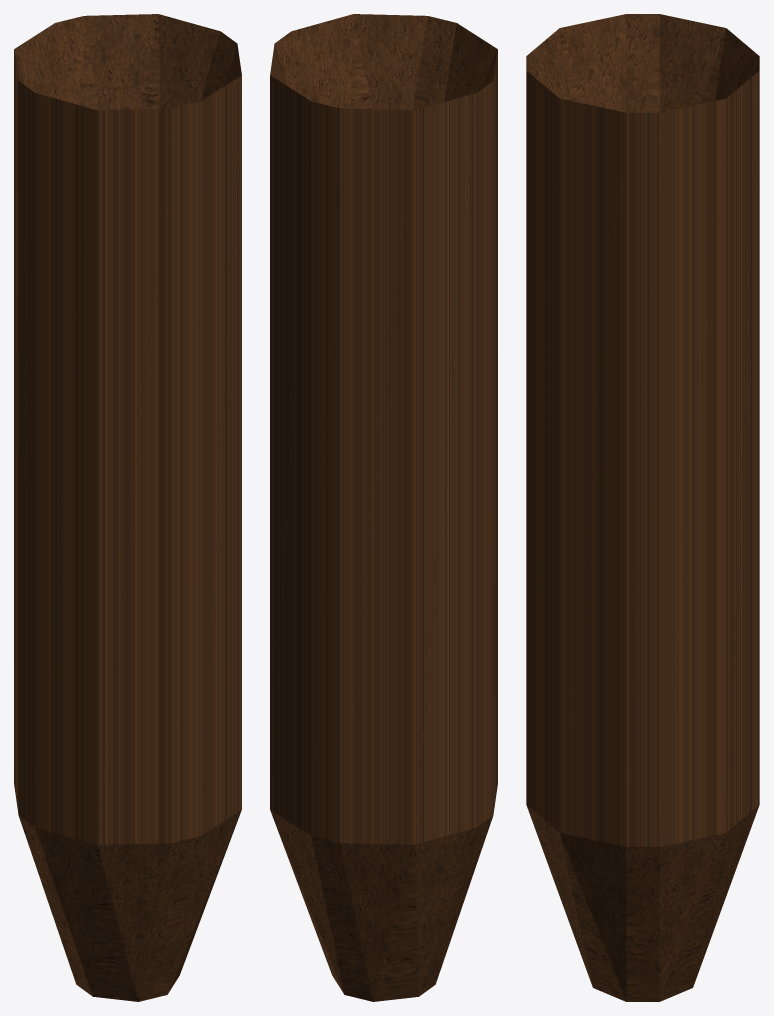
The model's file is pond_collider.glb.
The picture shows the model from 3 angles, left to right: view 1: azimuth 30°, elevation 25°; view 2: azimuth 150°, elevation 25°; view 3: azimuth 270°, elevation 25°; orthographic projection.
Visible parts, largest first — view 1: ground.002; view 2: ground.002; view 3: ground.002.
Boxes of the visible parts, left/top/right/bottom form: ground.002: left=14, top=14, right=241, bottom=1001; ground.002: left=270, top=14, right=497, bottom=1001; ground.002: left=526, top=14, right=759, bottom=1001.
Size of the model in its own units: 20.59 by 89.3 by 20.59.
1 material, 1 textured.
